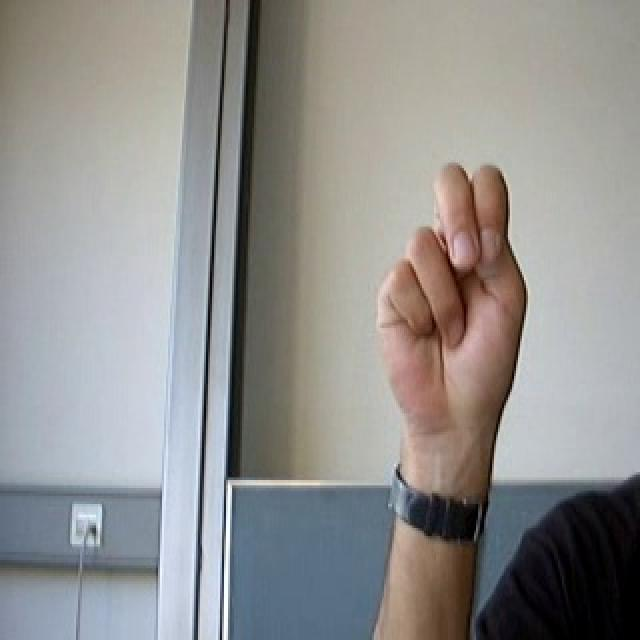N: (369, 150, 539, 436)
